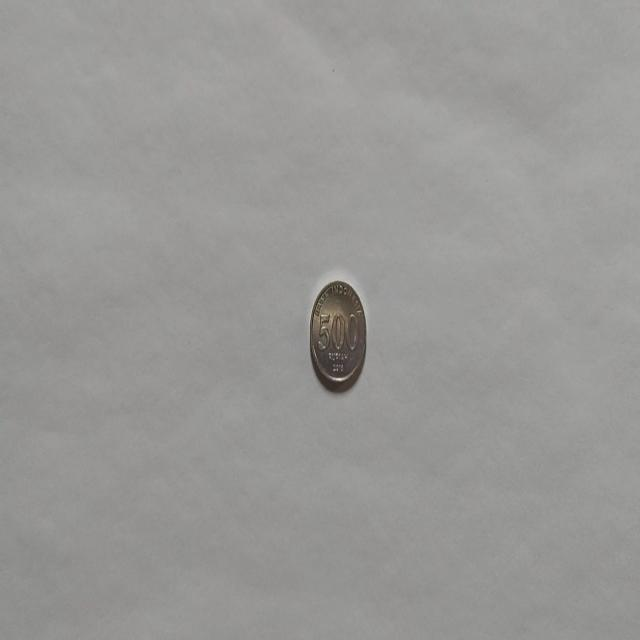lima ratus rupiah: (308, 278, 368, 390)
